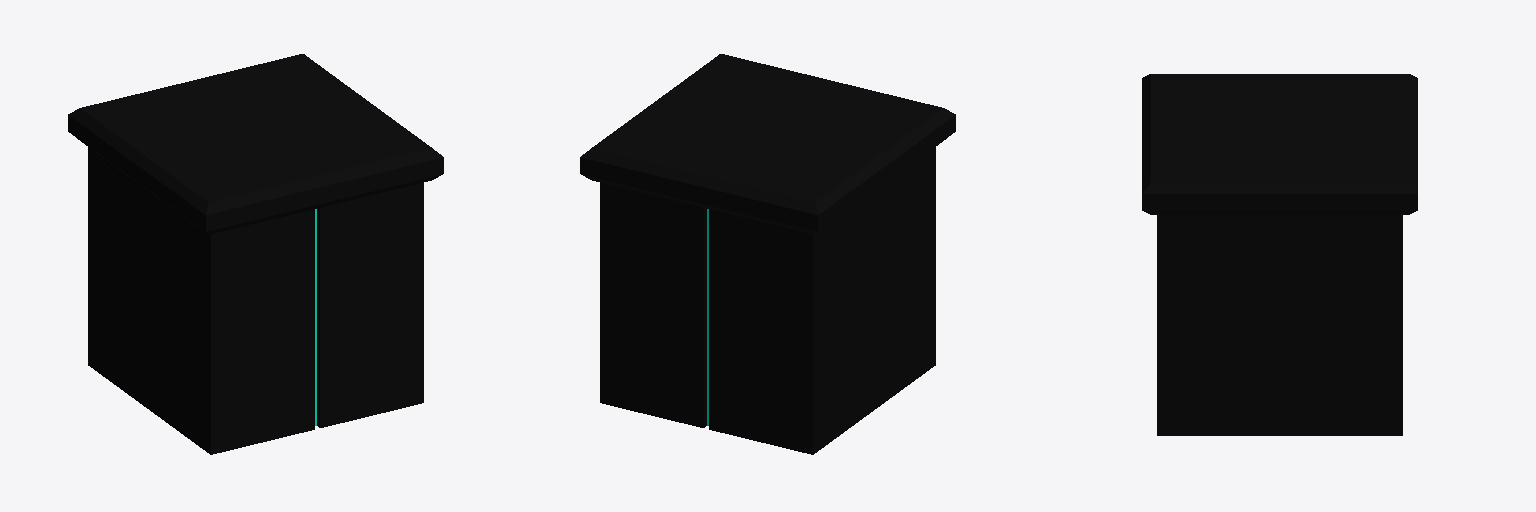
File: UpgradeCube.obj
3 views of the same model, side by side, from view 1: azimuth 30°, elevation 25°; view 2: azimuth 150°, elevation 25°; view 3: azimuth 270°, elevation 25° (orthographic).
Parts seen in each view (by area): view 1: UpgradeCube; view 2: UpgradeCube; view 3: UpgradeCube.
Boxes of the visible parts, x1=… form: UpgradeCube: x1=68, y1=54, x2=443, y2=454; UpgradeCube: x1=580, y1=54, x2=955, y2=454; UpgradeCube: x1=1142, y1=74, x2=1417, y2=435.
Size of the model in its own units: 112 by 115 by 112.